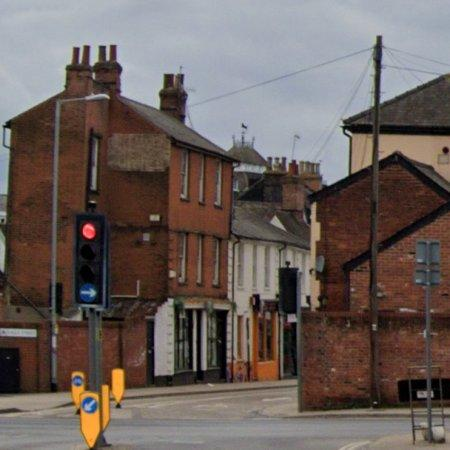chimneys: (65, 45, 93, 98), (93, 45, 122, 95), (159, 74, 188, 122), (289, 160, 299, 176)
